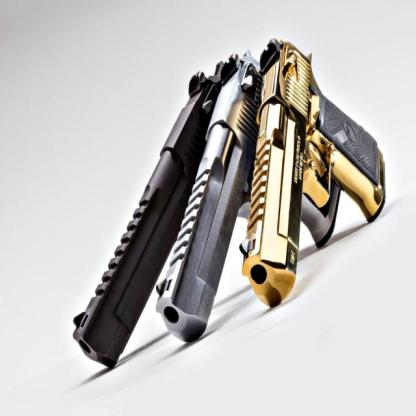handgun: (72, 23, 219, 376), (240, 30, 386, 365), (158, 32, 266, 352)
